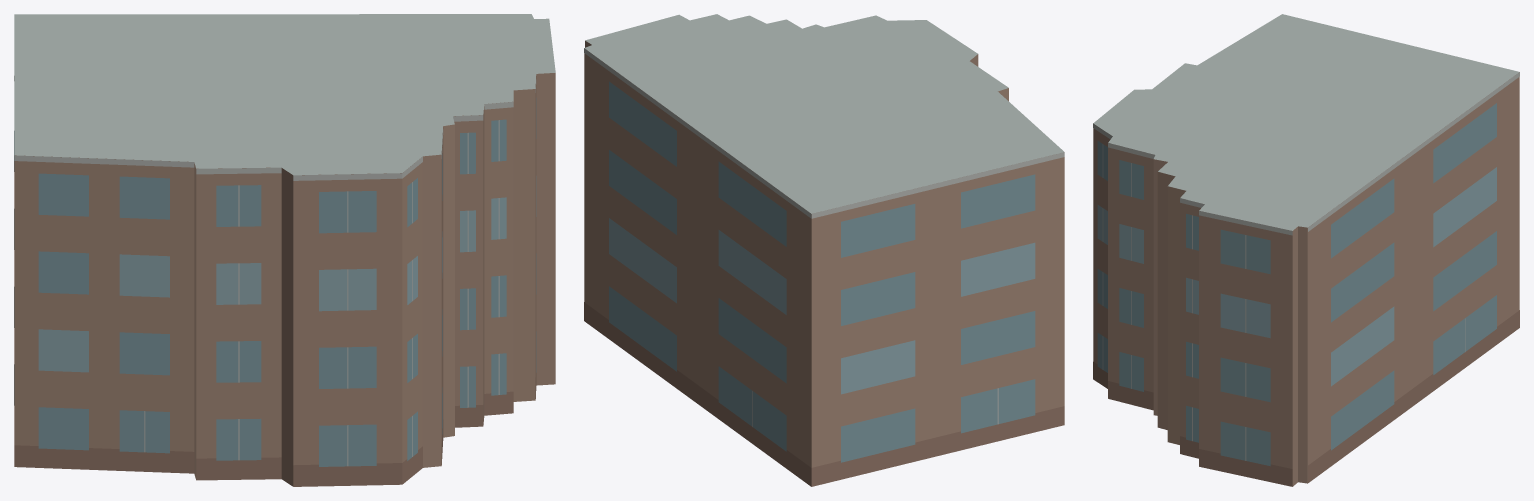
File: survey-upis-32705769.glb
3 views of the same model, side by side, from view 1: azimuth 30°, elevation 25°; view 2: azimuth 150°, elevation 25°; view 3: azimuth 270°, elevation 25° (orthographic). The views are drawn at different scales.
Parts seen in each view (by area): view 1: survey-upis-32705769.tmp; view 2: survey-upis-32705769.tmp; view 3: survey-upis-32705769.tmp.
Part boxes in pixels (bbox=[...]): survey-upis-32705769.tmp: bbox=[14, 14, 555, 486]; survey-upis-32705769.tmp: bbox=[584, 14, 1064, 486]; survey-upis-32705769.tmp: bbox=[1093, 14, 1519, 486].
Size of the model in its own units: 24.55 by 13.5 by 20.4.
